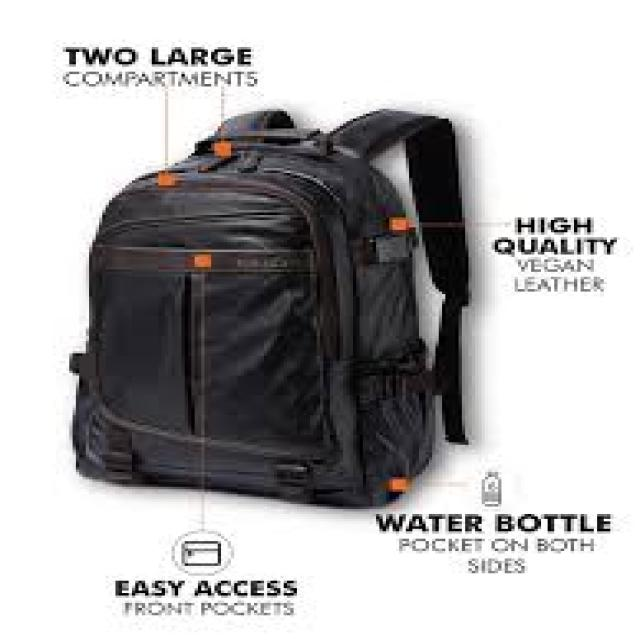backpack: (67, 107, 469, 508)
